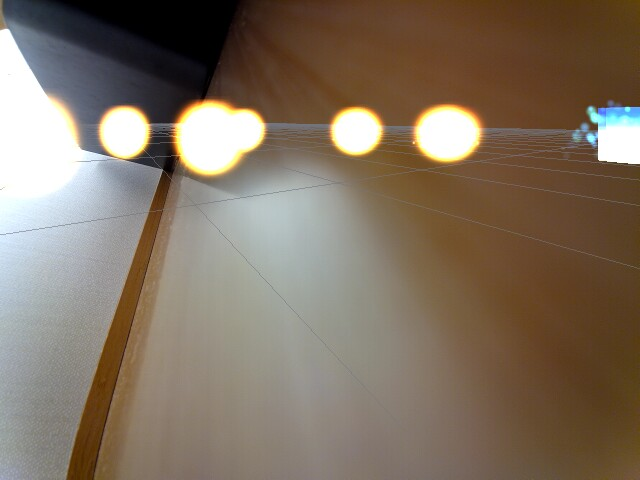firebig: (0, 64, 85, 206)
